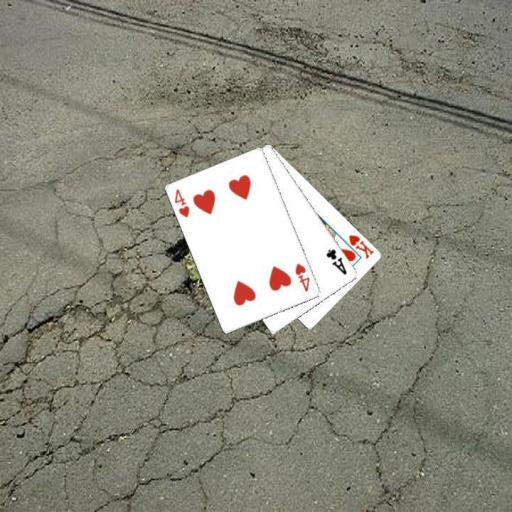card-corner: (346, 232, 376, 260), (323, 246, 348, 277), (292, 260, 312, 293), (172, 186, 192, 219)
